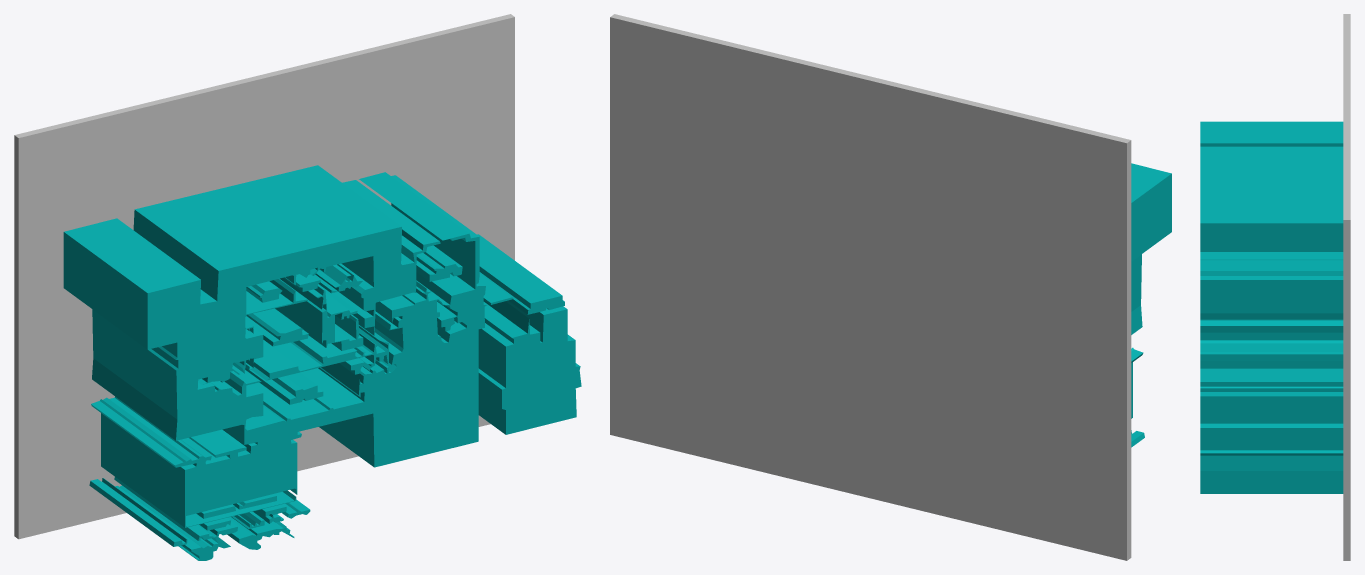
3 renders of one model, left to right at view 1: azimuth 30°, elevation 25°; view 2: azimuth 150°, elevation 25°; view 3: azimuth 270°, elevation 25°, orthographic. The views are drawn at different scales.
Visible parts, largest first — view 1: world; view 2: world; view 3: world.
Boxes of the visible parts, <box> form: world: <box>14,14,581,560</box>; world: <box>610,14,1171,560</box>; world: <box>1200,14,1350,560</box>.
Size of the model in its own units: 10.23 by 7.9 by 3.15.
